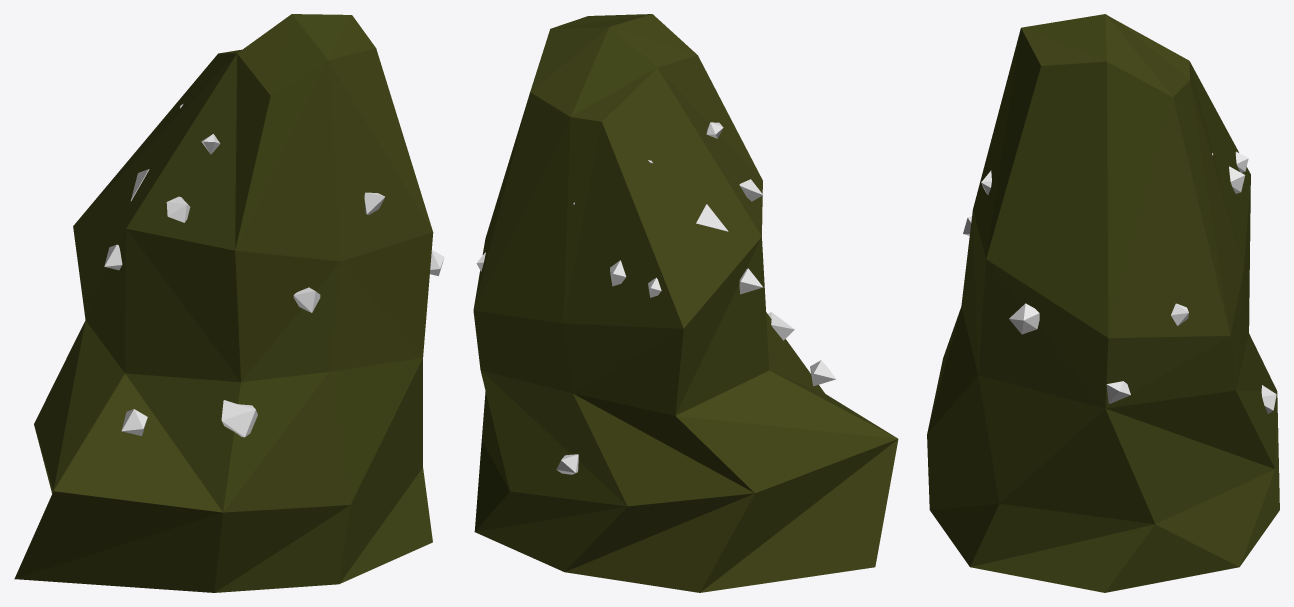
File: Bush_03a.fbx
3 views of the same model, side by side, from view 1: azimuth 30°, elevation 25°; view 2: azimuth 150°, elevation 25°; view 3: azimuth 270°, elevation 25° (orthographic). The views are drawn at different scales.
Visible parts, largest first — view 1: Bush_03; view 2: Bush_03; view 3: Bush_03.
Part boxes in pixels (x1=…): Bush_03: x1=14, y1=14, x2=444, y2=592; Bush_03: x1=473, y1=14, x2=898, y2=592; Bush_03: x1=927, y1=14, x2=1279, y2=592.
Bounding box in the file's own units: 1.65 × 1.92 × 1.19.
